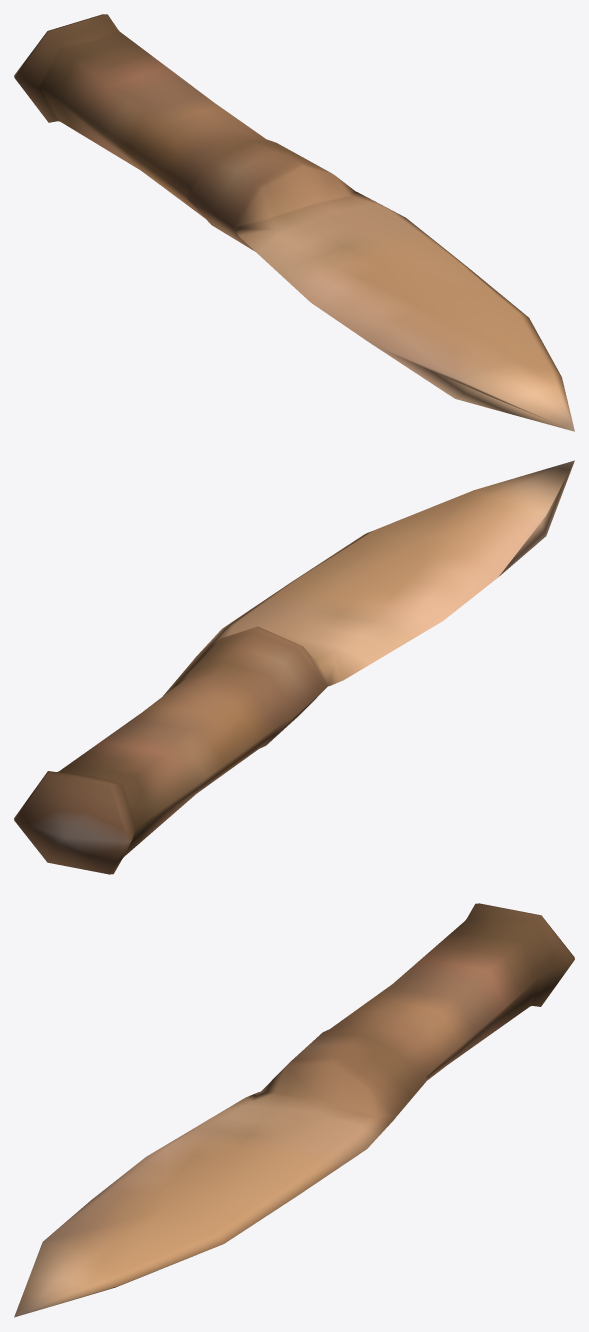
File: KnifeCopper.fbx
3 views of the same model, one above another, from view 1: azimuth 30°, elevation 25°; view 2: azimuth 150°, elevation 25°; view 3: azimuth 330°, elevation 25° (orthographic).
Parts seen in each view (by area): view 1: knife; view 2: knife; view 3: knife.
Part boxes in pixels (x1,y1,x2,y2): knife: (14, 14, 574, 431); knife: (14, 460, 574, 874); knife: (14, 903, 574, 1317).
Size of the model in its own units: 0.0663 by 0.0365 by 0.3735.
1 material, 1 textured.
